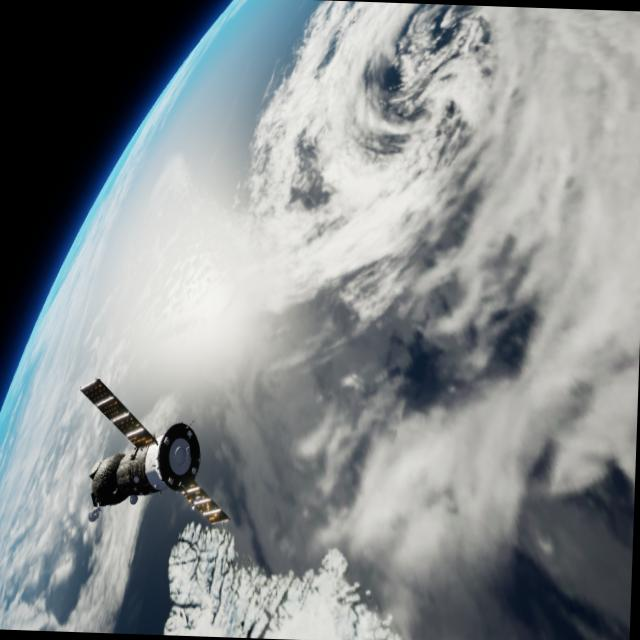Satellites revolving around earth: (0, 0, 640, 640), (72, 374, 236, 531)
